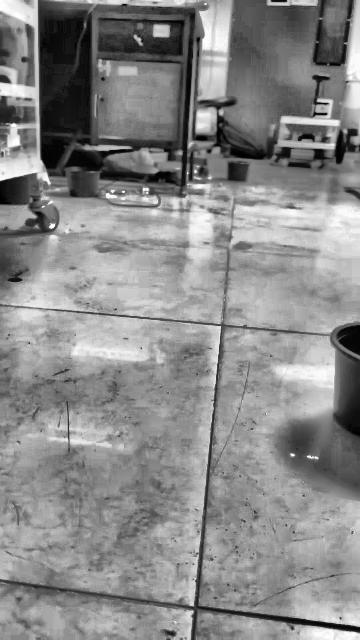pot: (329, 322, 359, 436)
